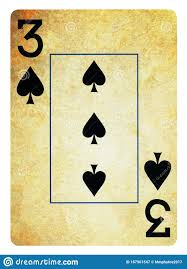three of spades: (9, 9, 175, 245)
